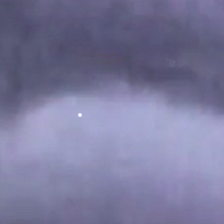Target: (76, 111, 83, 118)
